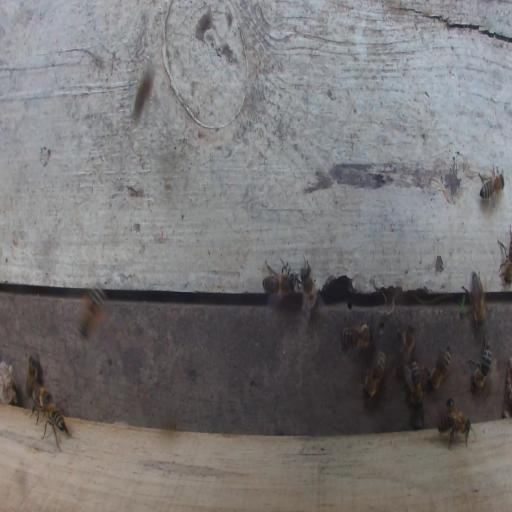bee: (296, 252, 327, 322), (262, 256, 296, 311), (75, 278, 104, 340), (461, 269, 489, 328), (40, 402, 71, 454), (464, 335, 492, 392), (436, 410, 472, 450), (362, 349, 387, 403), (424, 345, 452, 393), (341, 322, 375, 361), (401, 359, 426, 411), (478, 161, 506, 201), (29, 386, 54, 426), (497, 224, 512, 289), (399, 323, 416, 364), (25, 354, 40, 400)
